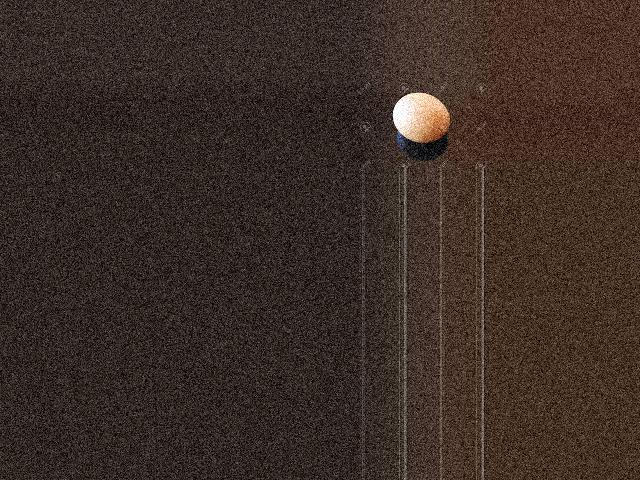egg: (392, 92, 450, 143)
